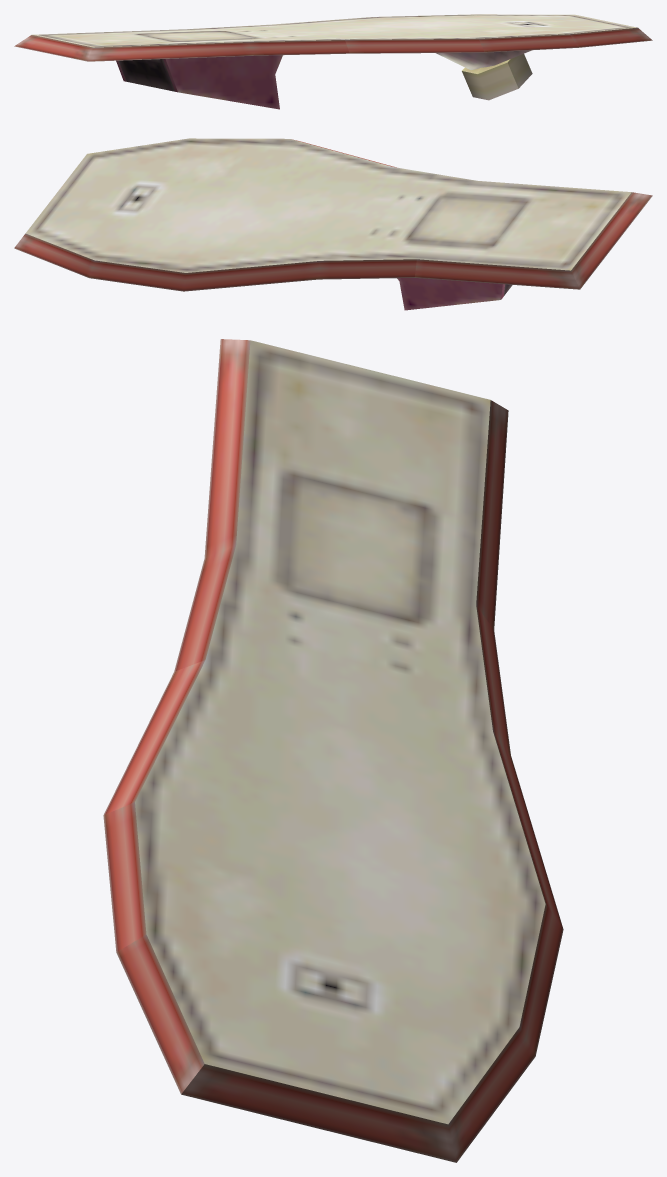
File: eureka_us_cpy.ico.obj
3 views of the same model, one above another, from view 1: azimuth 30°, elevation 25°; view 2: azimuth 150°, elevation 25°; view 3: azimuth 270°, elevation 25° (orthographic). The views are drawn at different scales.
Bounding box in the file's own units: 4.74 × 1.31 × 1.69.
Materials: 1 (1 with a texture image).
